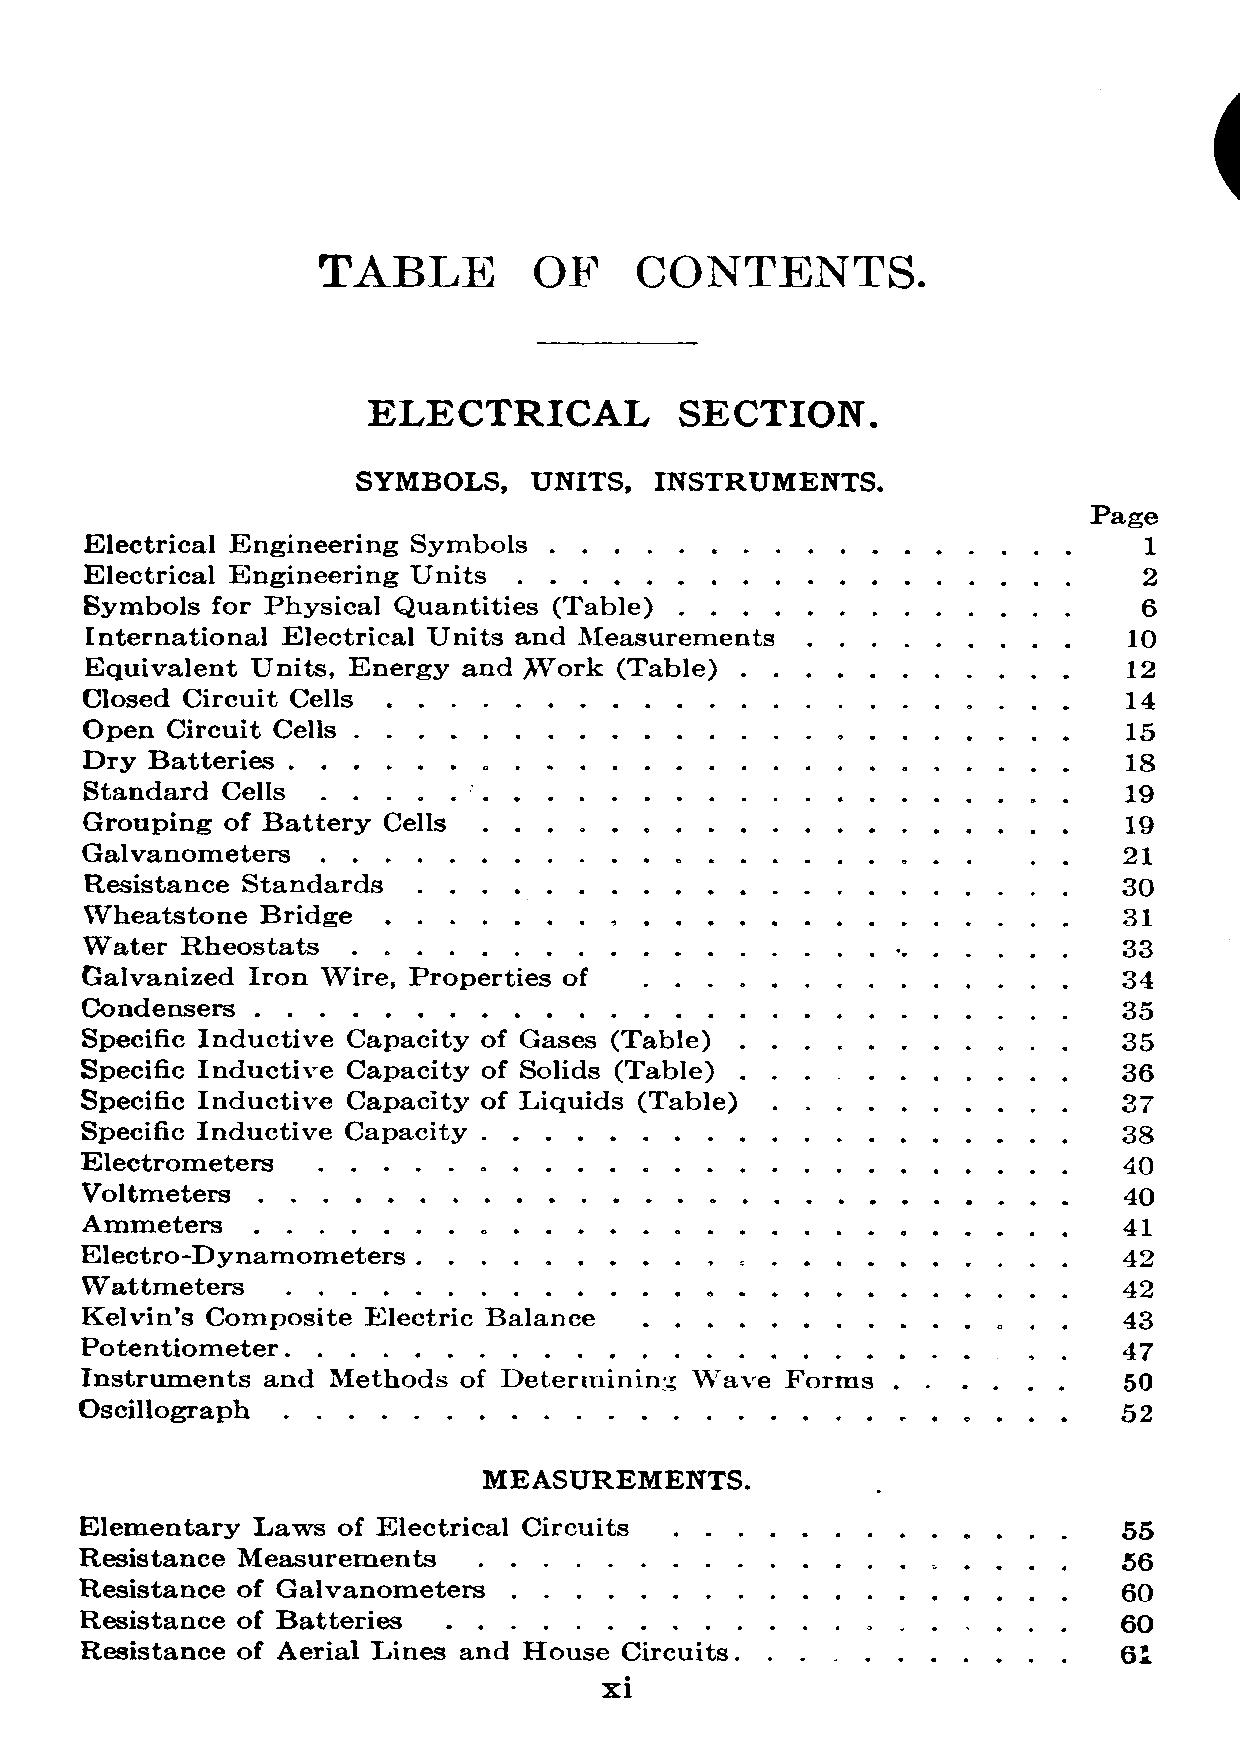TOC_chapter: (361, 388, 884, 435), (81, 1363, 875, 1393), (79, 1636, 733, 1665), (350, 462, 888, 497), (75, 1087, 739, 1115), (82, 590, 658, 621), (85, 625, 778, 651), (76, 1508, 635, 1539), (81, 654, 721, 680), (76, 1027, 711, 1053), (79, 1057, 717, 1082), (79, 1300, 601, 1329), (76, 964, 590, 990), (81, 527, 534, 557), (76, 1574, 488, 1600), (83, 561, 488, 586), (79, 1118, 470, 1143), (76, 1545, 439, 1570), (81, 811, 447, 835), (75, 1241, 407, 1267), (76, 870, 389, 896), (81, 1606, 405, 1632), (479, 1461, 753, 1491), (79, 900, 364, 929), (83, 717, 340, 747), (81, 684, 357, 713), (76, 931, 322, 957), (81, 776, 289, 804), (81, 839, 293, 866), (76, 1149, 276, 1176), (81, 1334, 285, 1359), (76, 1396, 251, 1425), (76, 1271, 250, 1300), (78, 750, 274, 773), (76, 994, 242, 1021), (81, 1181, 234, 1206), (79, 1210, 227, 1235)
TOC_pagenumber: (1122, 811, 1155, 837), (1119, 1547, 1155, 1571), (1121, 968, 1155, 992), (1122, 1516, 1157, 1541), (1121, 1644, 1155, 1668), (1121, 1091, 1154, 1115), (1121, 1122, 1155, 1145), (1121, 1276, 1155, 1299), (1121, 1580, 1155, 1602), (1125, 687, 1155, 713), (1125, 752, 1158, 774), (1121, 1308, 1154, 1331), (1118, 1610, 1153, 1632), (1121, 1338, 1151, 1362), (1127, 658, 1159, 680), (1125, 782, 1157, 805), (1122, 1062, 1154, 1084), (1122, 1031, 1155, 1052), (1121, 1247, 1154, 1268), (1123, 874, 1153, 898), (1123, 843, 1151, 867), (1125, 1153, 1153, 1177), (1123, 1184, 1153, 1206), (1125, 1370, 1155, 1392), (1121, 1401, 1151, 1423), (1125, 719, 1157, 739), (1135, 527, 1158, 556), (1123, 1216, 1151, 1239), (1121, 906, 1151, 926), (1121, 998, 1151, 1019), (1119, 938, 1154, 956), (1129, 627, 1155, 647), (1139, 565, 1159, 590), (1143, 595, 1157, 617)
chapter: (314, 242, 925, 293)
content_pagenumber: (597, 1671, 637, 1700)
